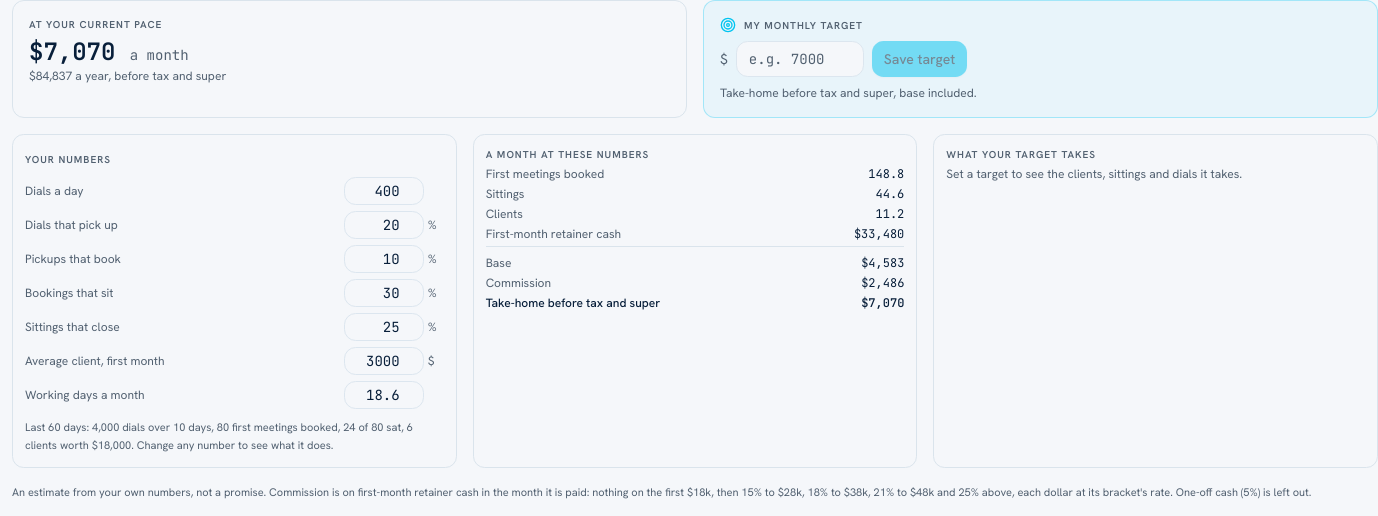
Scenario: earnings plan › lets a rep save their own target and hides the editor from a manager
Later steps or results of the test are not shown.
Type "$7,000" into the field named "Monthly take-home target" at (800, 59), box 736,41 -> 864,77
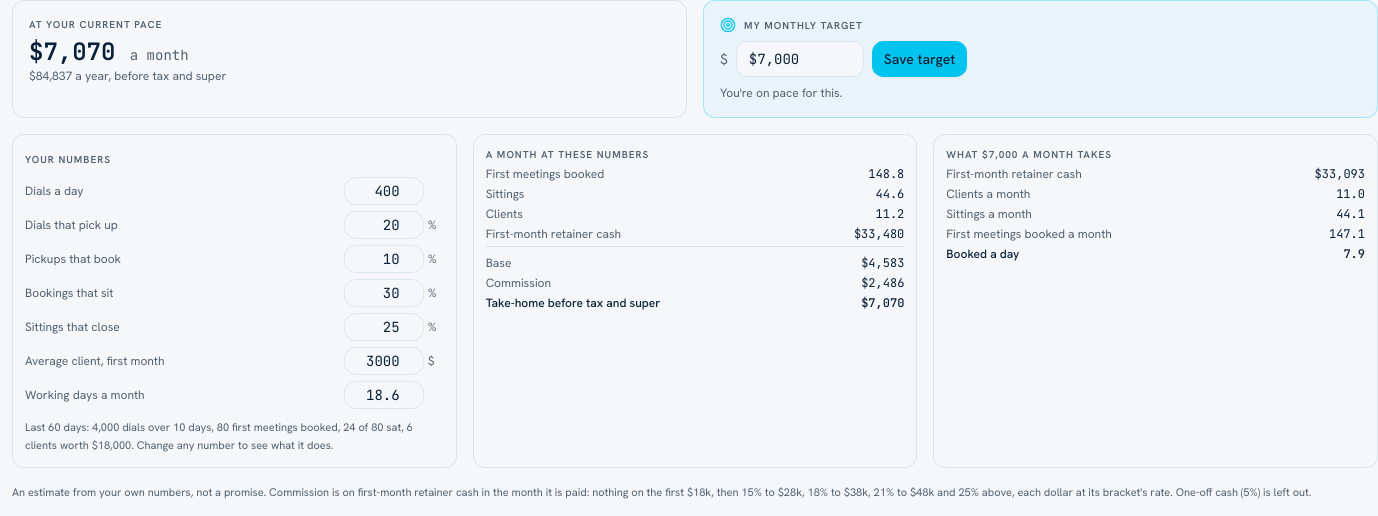
Click the button "Save target" at (919, 59), box 872,41 -> 967,77
Expected: the text "What $7,000 a month takes" is shown, 946,148 -> 1112,161
